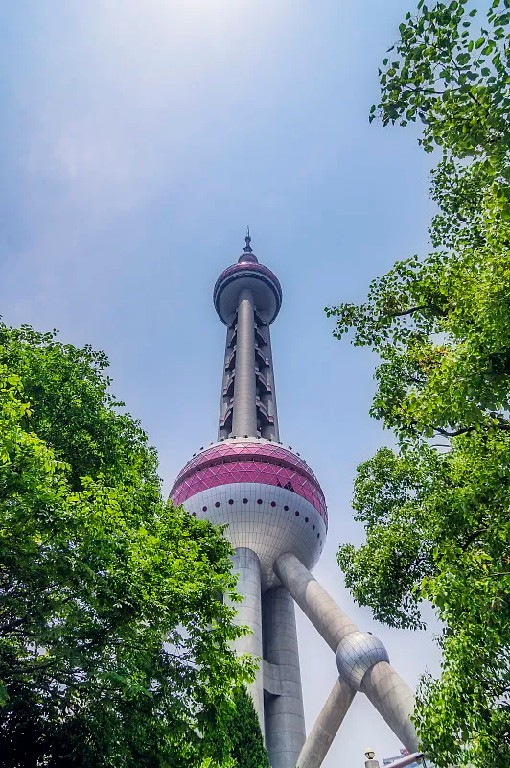Oriental: (168, 224, 424, 768)
